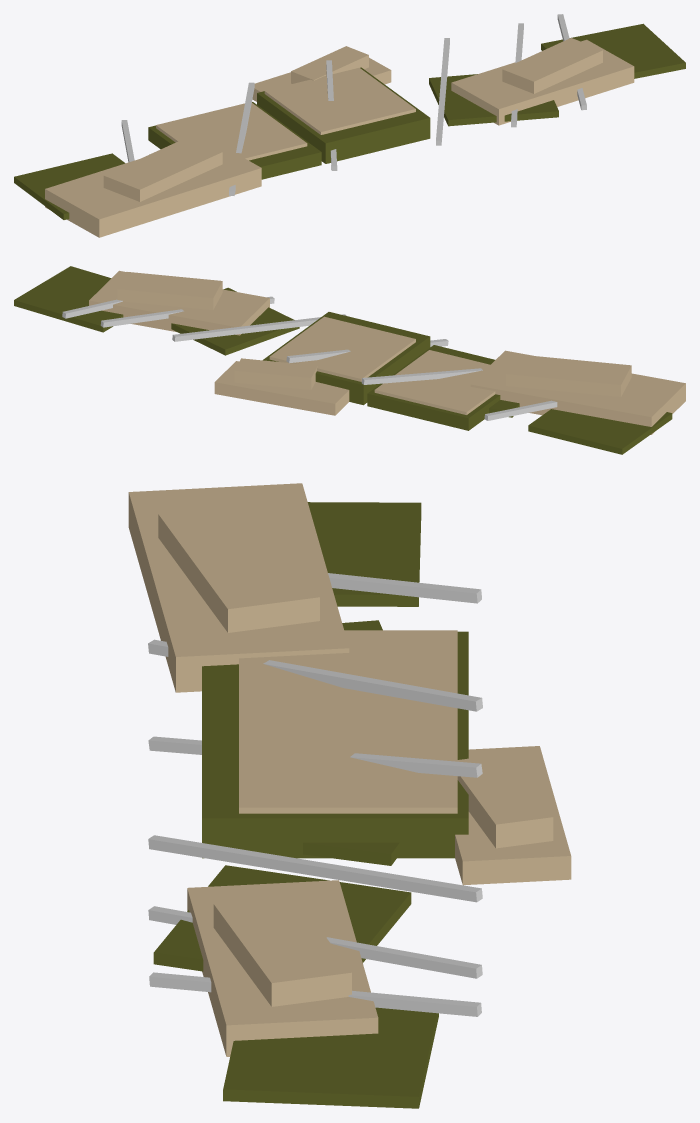
The model's file is SM_HescoCorto3_v1_Geotextil_e3_Brecha_LOD0.fbx.
The picture shows the model from 3 angles, top to bottom: view 1: azimuth 30°, elevation 25°; view 2: azimuth 150°, elevation 25°; view 3: azimuth 270°, elevation 25°; orthographic projection. The views are drawn at different scales.
Parts seen in each view (by area): view 1: SM_hesco_piezas_v87_LOD0; view 2: SM_hesco_piezas_v87_LOD0; view 3: SM_hesco_piezas_v87_LOD0.
Part boxes in pixels (bbox=[...]): SM_hesco_piezas_v87_LOD0: bbox=[14, 14, 685, 237]; SM_hesco_piezas_v87_LOD0: bbox=[14, 266, 685, 454]; SM_hesco_piezas_v87_LOD0: bbox=[128, 483, 571, 1108].
Bounding box in the file's own units: 6.44 × 0.3263 × 2.02.
